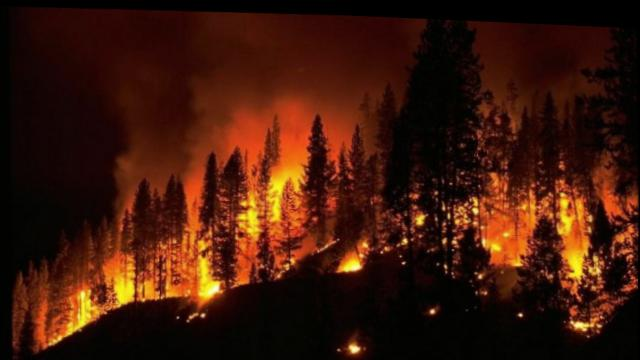fire: (410, 167, 626, 334), (35, 250, 157, 351), (226, 164, 311, 244), (188, 235, 224, 303), (334, 233, 367, 273)
